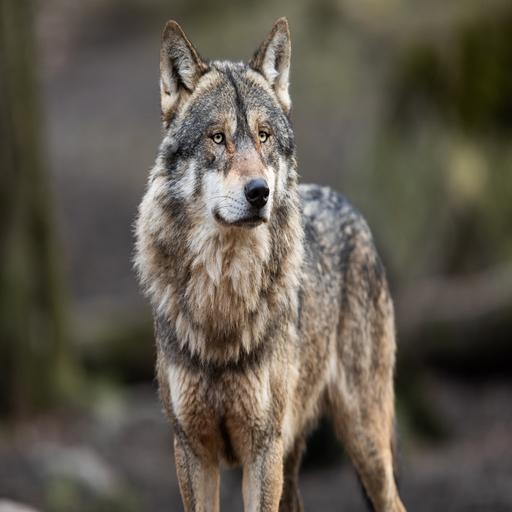Wolf: (127, 15, 416, 512)
